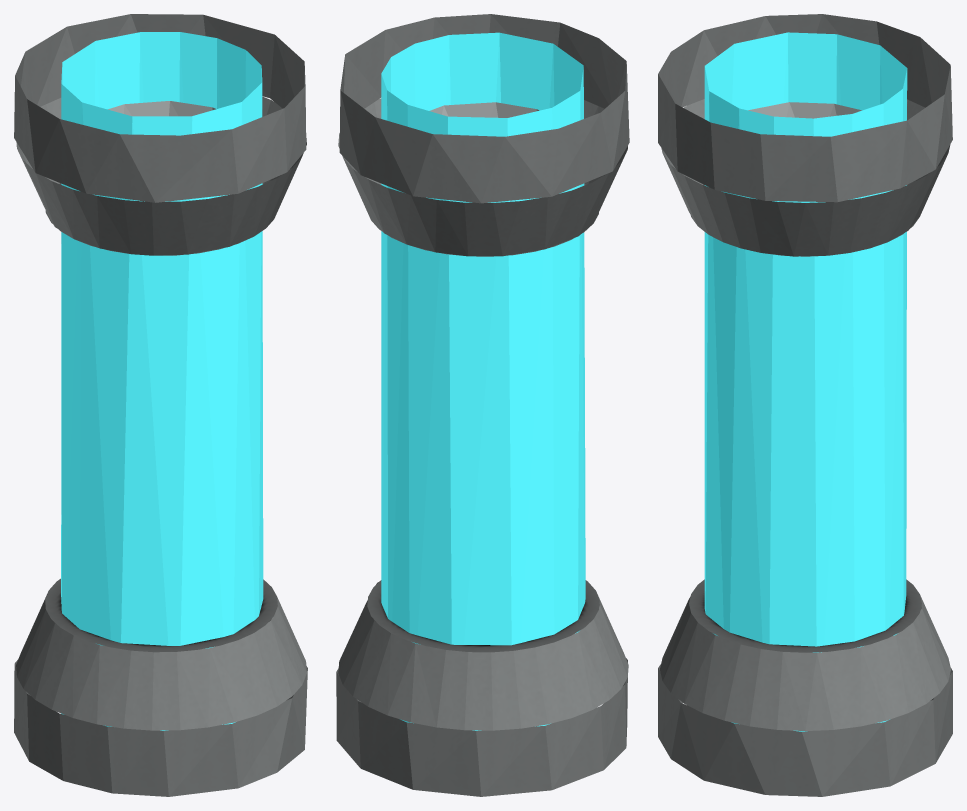
File: cloak_device.glb
3 views of the same model, side by side, from view 1: azimuth 30°, elevation 25°; view 2: azimuth 150°, elevation 25°; view 3: azimuth 270°, elevation 25° (orthographic).
Parts seen in each view (by area): view 1: CloakEnergyCell; view 2: CloakEnergyCell; view 3: CloakEnergyCell.
Boxes of the visible parts, x1=… form: CloakEnergyCell: x1=14, y1=14, x2=307, y2=796; CloakEnergyCell: x1=336, y1=14, x2=629, y2=796; CloakEnergyCell: x1=658, y1=14, x2=952, y2=796.
Bounding box in the file's own units: 0.0729 × 0.18 × 0.0729.
Materials: 2 (1 with a texture image).
